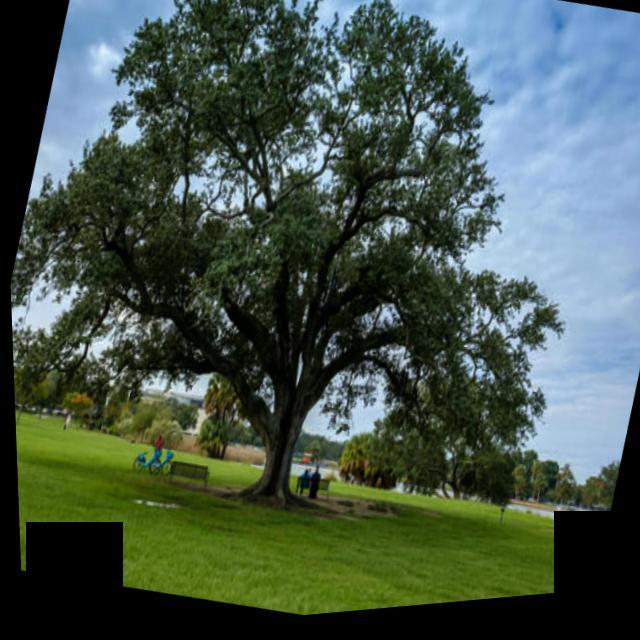Tree: (1, 1, 635, 595), (359, 255, 583, 541), (183, 354, 262, 471), (389, 428, 456, 509), (465, 446, 522, 524), (52, 352, 109, 427), (93, 364, 146, 443), (439, 447, 494, 517), (356, 430, 408, 498), (134, 390, 198, 443), (571, 464, 619, 531), (331, 433, 379, 497), (501, 456, 546, 519), (12, 356, 46, 426), (24, 371, 63, 426), (544, 469, 583, 522), (523, 467, 560, 517), (142, 414, 186, 456), (11, 352, 29, 422)
